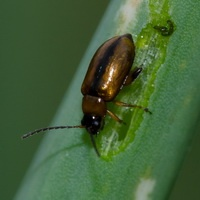insect: (23, 34, 149, 137), (153, 20, 173, 35)
